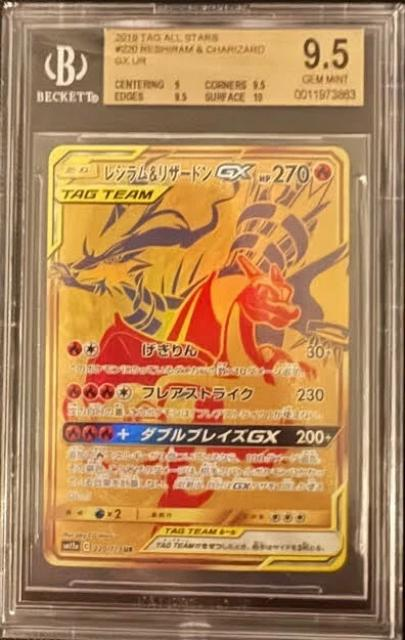Card: (39, 141, 354, 575)
Name: (103, 153, 254, 187)
